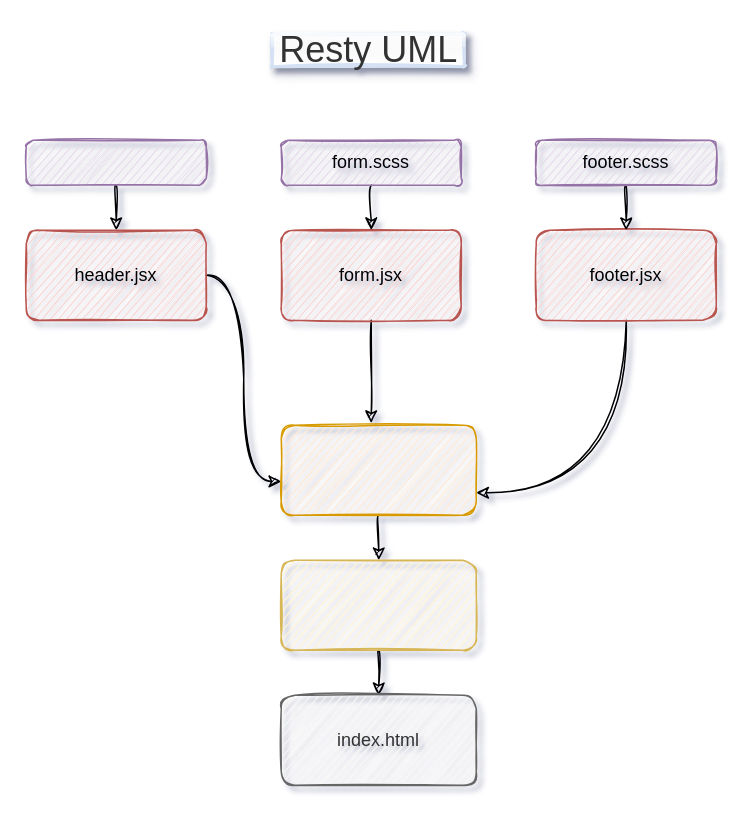
This 752x821 diagram has some shape labels left out. Here are the shapes that lost their labels. From the top down, the centre of each, then its label:
At point 115,162: "header.scss".
At point 378,469: "App.js".
At point 378,604: "index.js".
